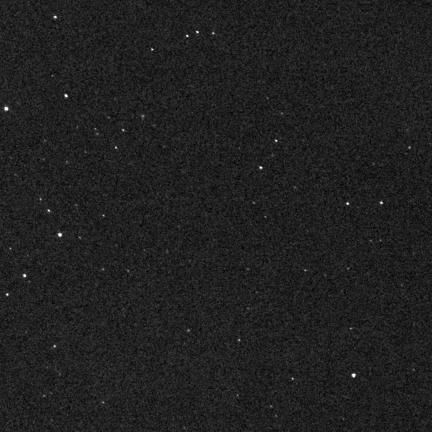blob: (4, 107, 9, 112), (64, 94, 68, 98), (58, 233, 62, 237), (23, 274, 27, 278)
